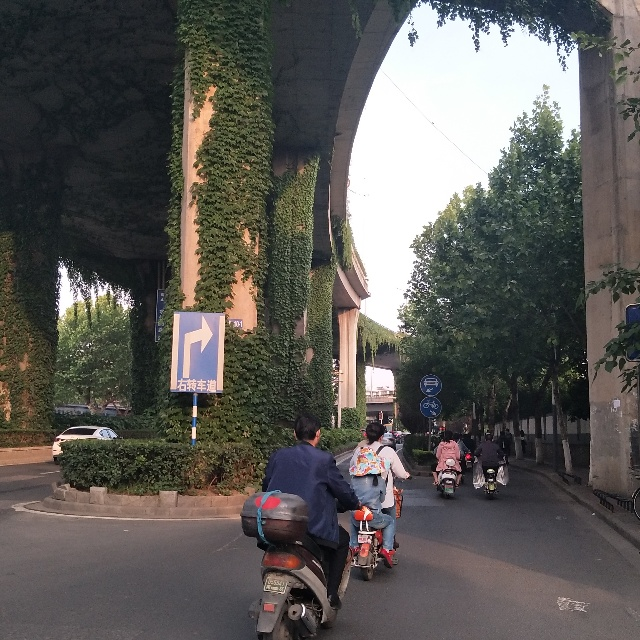right: (176, 315, 220, 383)
